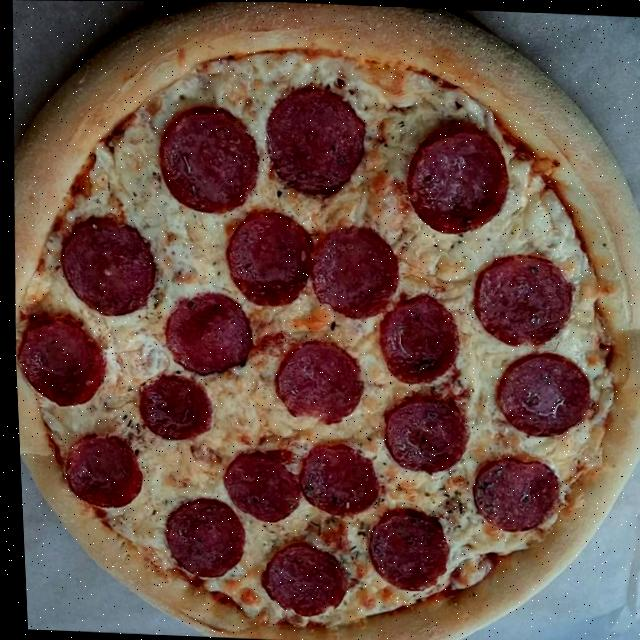pepperoni: (397, 118, 511, 237), (257, 84, 367, 202), (149, 102, 262, 214), (50, 213, 158, 320), (462, 250, 573, 349), (302, 222, 398, 328), (215, 208, 314, 305), (367, 288, 462, 388), (11, 313, 104, 414), (264, 335, 364, 427), (486, 350, 589, 436), (153, 490, 243, 585), (374, 390, 470, 477), (250, 536, 348, 620), (356, 504, 446, 595), (463, 453, 559, 534), (156, 293, 248, 377), (209, 449, 302, 529), (54, 428, 141, 510), (287, 441, 378, 516), (128, 371, 214, 442)
pizza: (0, 0, 640, 640)
